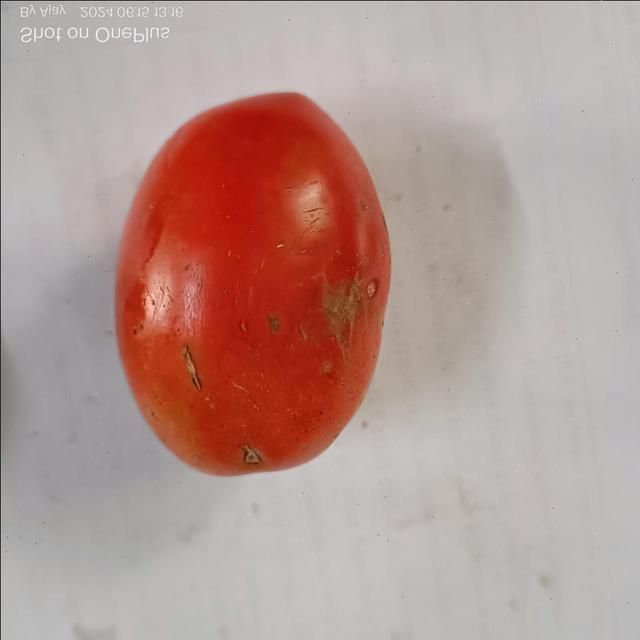Bacterial Spot Fruit: (18, 15, 232, 303)
